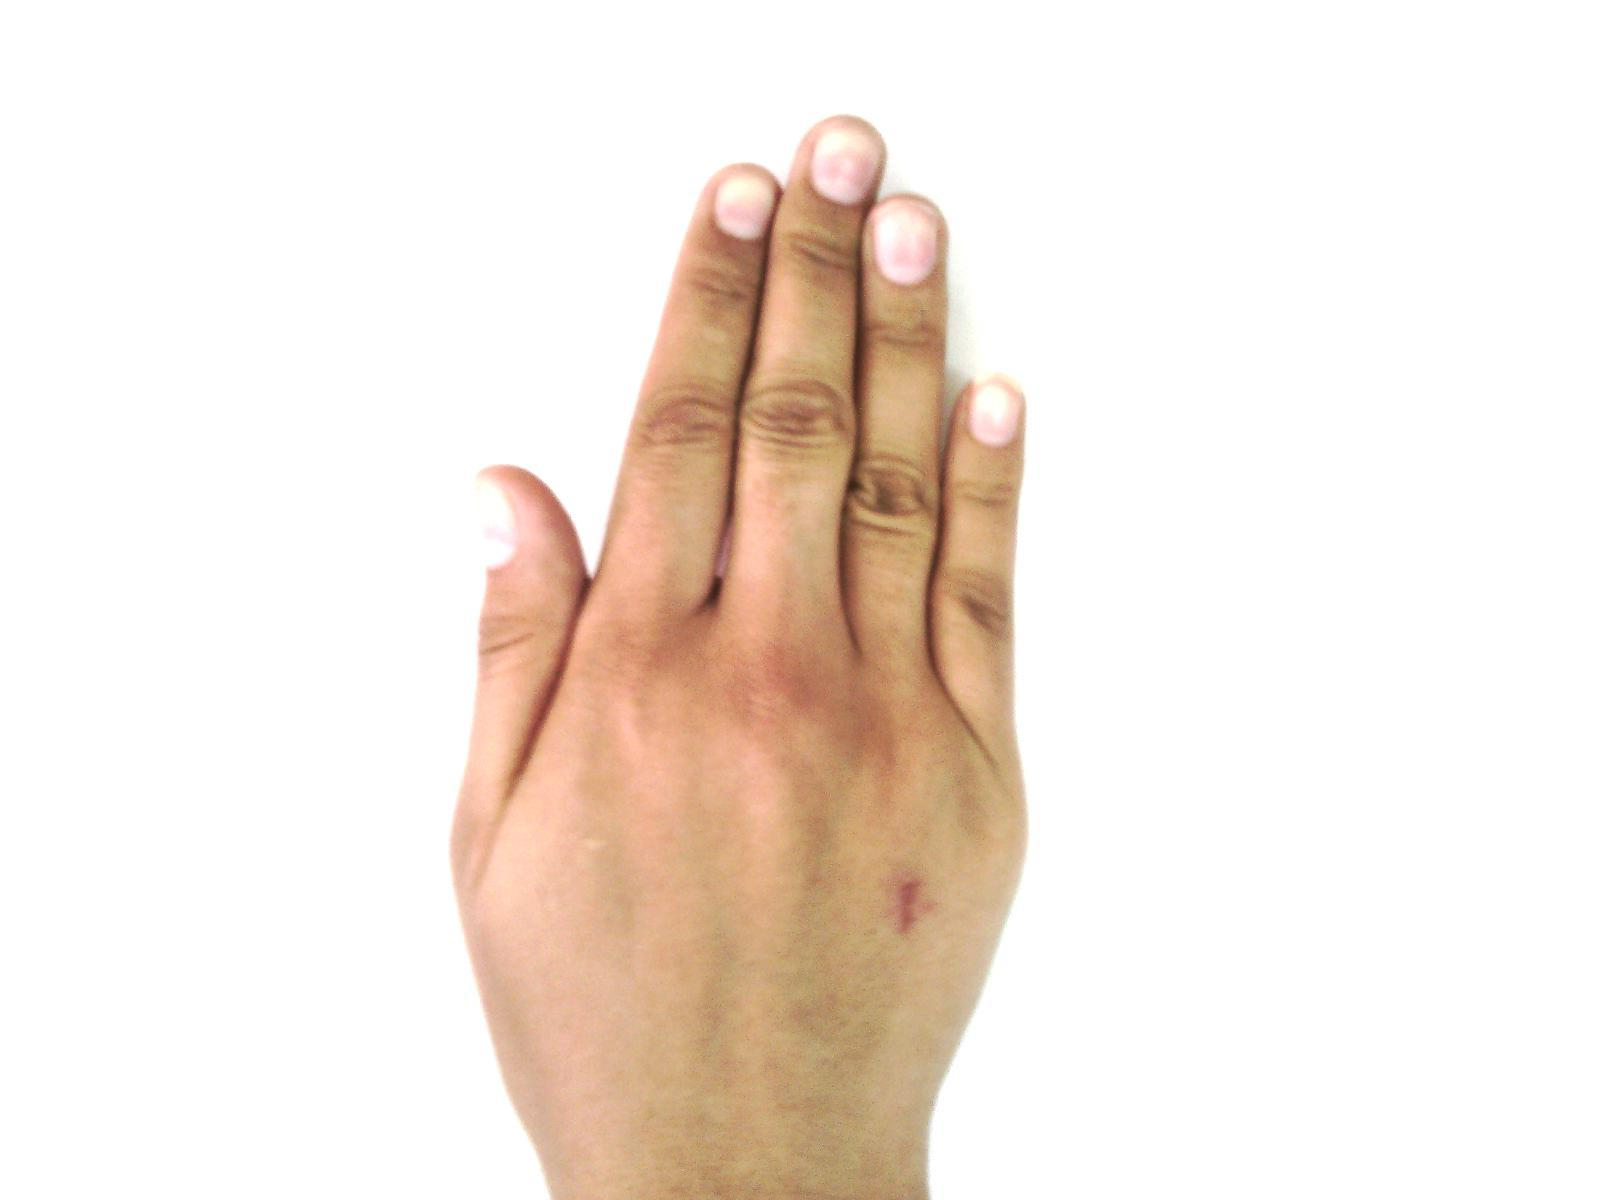hand: (451, 101, 1031, 1171)
